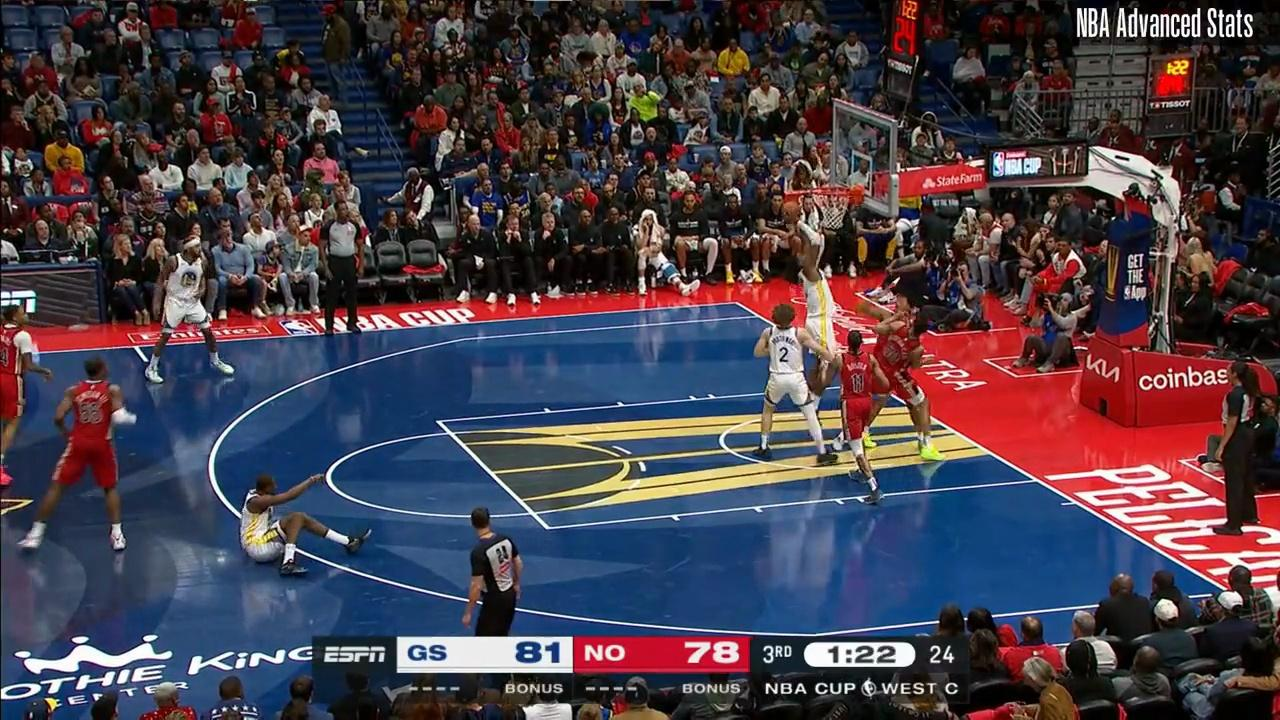basketball: (780, 201, 803, 221)
